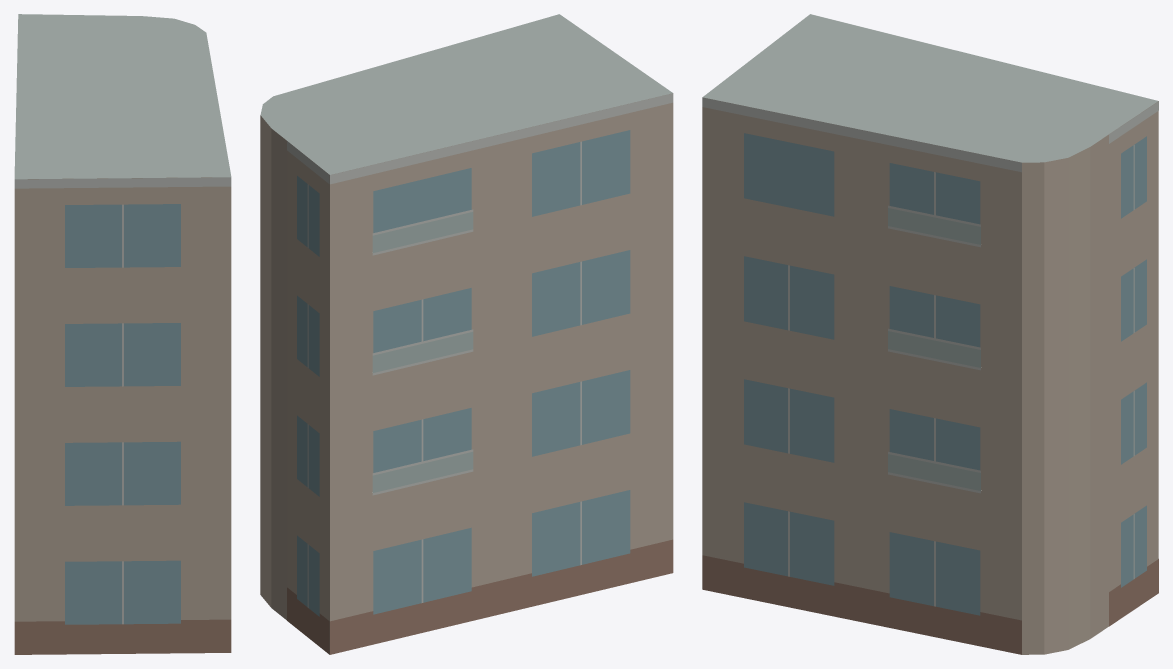
Rendered from survey-upis-32983410.glb.
3 views of the same model, side by side, from view 1: azimuth 30°, elevation 25°; view 2: azimuth 150°, elevation 25°; view 3: azimuth 270°, elevation 25° (orthographic). The views are drawn at different scales.
Visible parts, largest first — view 1: survey-upis-32983410.tmp; view 2: survey-upis-32983410.tmp; view 3: survey-upis-32983410.tmp.
Part boxes in pixels (x1,y1,x2,y2): survey-upis-32983410.tmp: (14,14,231,654); survey-upis-32983410.tmp: (260,14,673,654); survey-upis-32983410.tmp: (702,14,1158,654).
Bounding box in the file's own units: 8 × 12.35 × 10.38.
